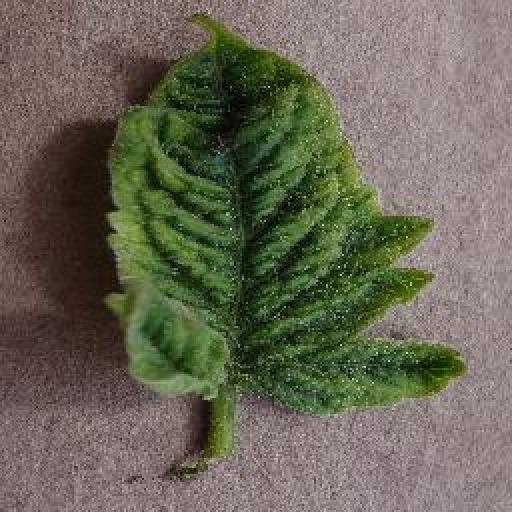Yellow Leaf Curl Virus: (107, 10, 466, 418)
